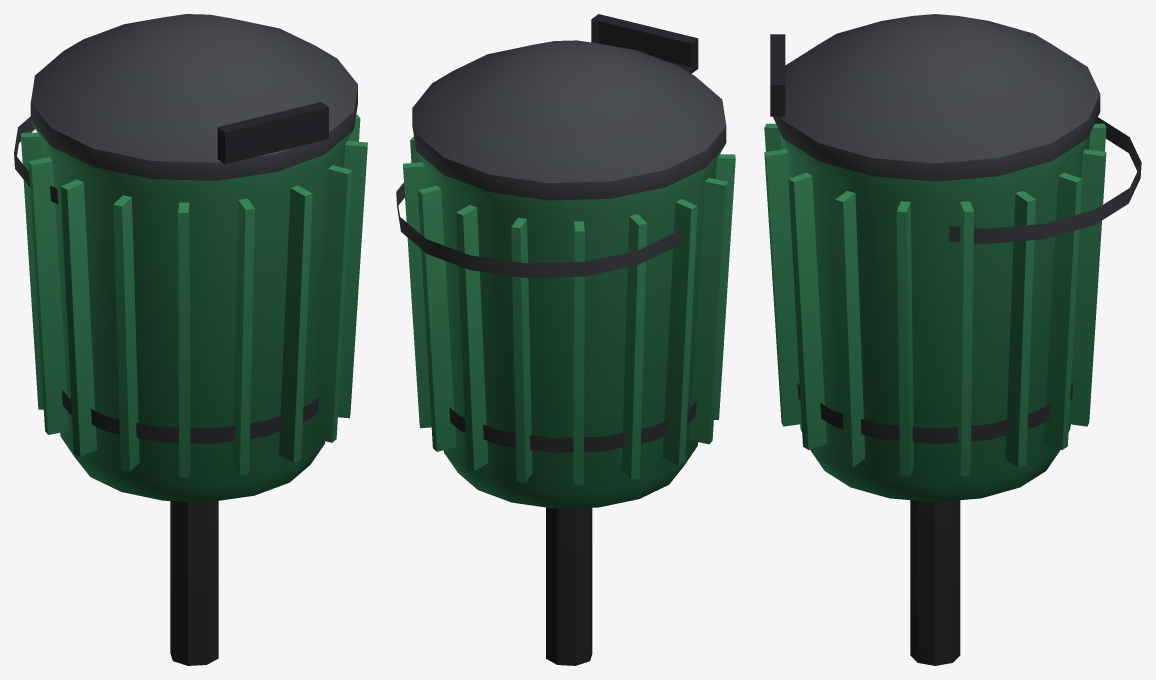
The model's file is Bin.fbx.
3 renders of one model, left to right at view 1: azimuth 30°, elevation 25°; view 2: azimuth 150°, elevation 25°; view 3: azimuth 270°, elevation 25°, orthographic. The views are drawn at different scales.
Visible parts, largest first — view 1: Bin_LOD0; view 2: Bin_LOD0; view 3: Bin_LOD0.
Boxes of the visible parts, x1,y1,x2,y2 form: Bin_LOD0: [14, 14, 367, 665]; Bin_LOD0: [396, 14, 735, 665]; Bin_LOD0: [764, 14, 1141, 665].
Size of what is drawn, in the model's own units: 0.6845 by 1.38 by 0.7549.
1 material, 1 textured.
